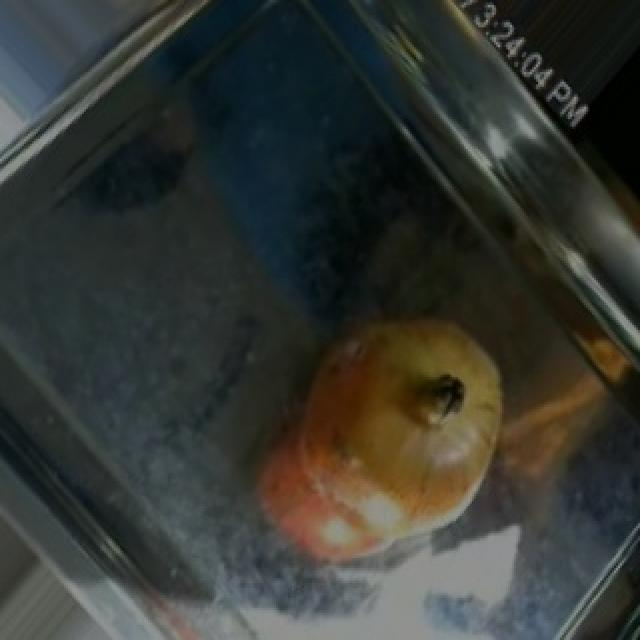fruit: (264, 282, 540, 560)
